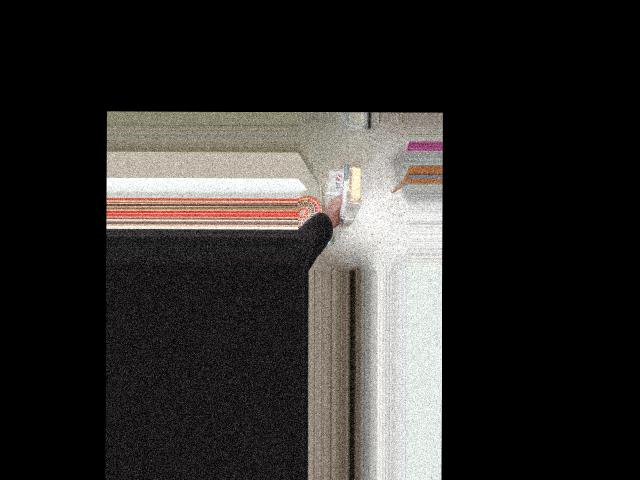cheese: (327, 163, 368, 223)
